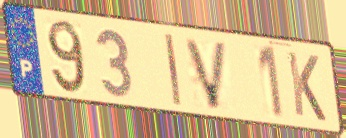1: (254, 42, 286, 121)
3: (94, 26, 135, 101)
9: (44, 18, 87, 96)
I: (162, 31, 184, 109)
K: (285, 48, 329, 124)
V: (182, 36, 231, 112)
